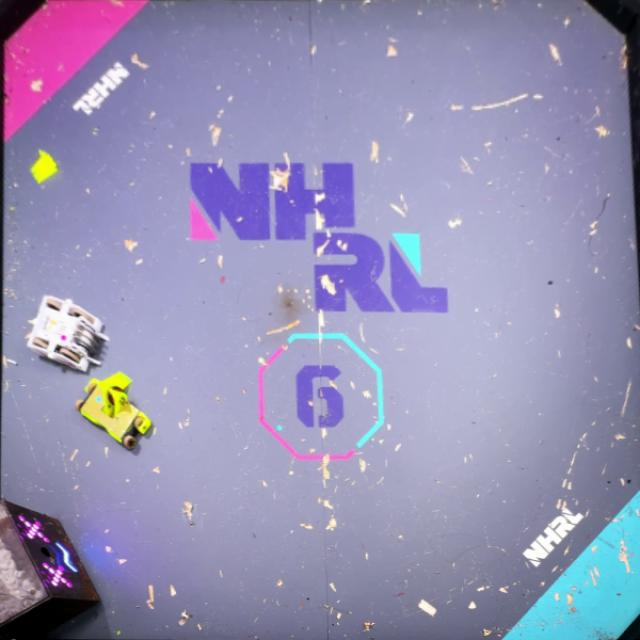housebot: (0, 496, 103, 640)
robot: (27, 298, 107, 371), (79, 376, 152, 443)
